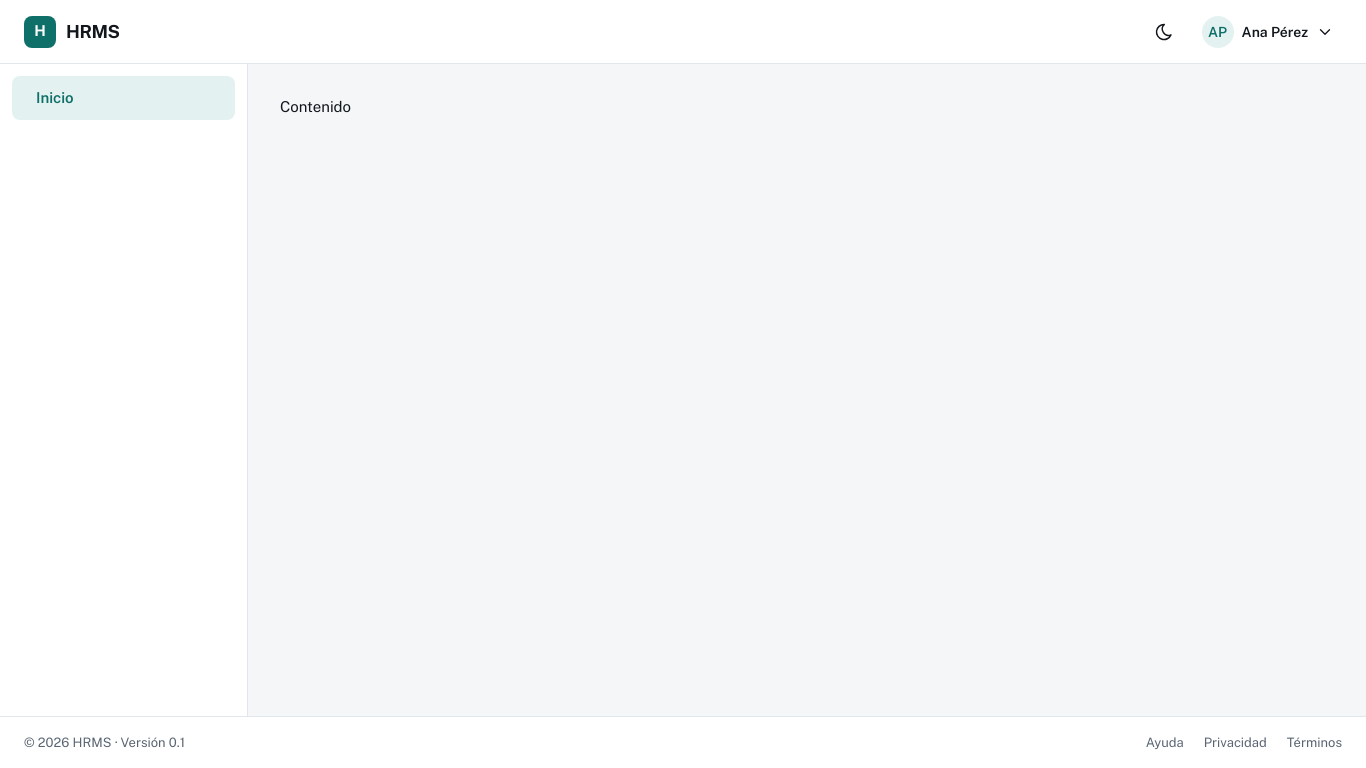
Test case: AppShell › cierra el menú con Escape
Click the button with aria-label "Menú de usuario" at (1268, 32), box left=1194, top=10, right=1342, bottom=54
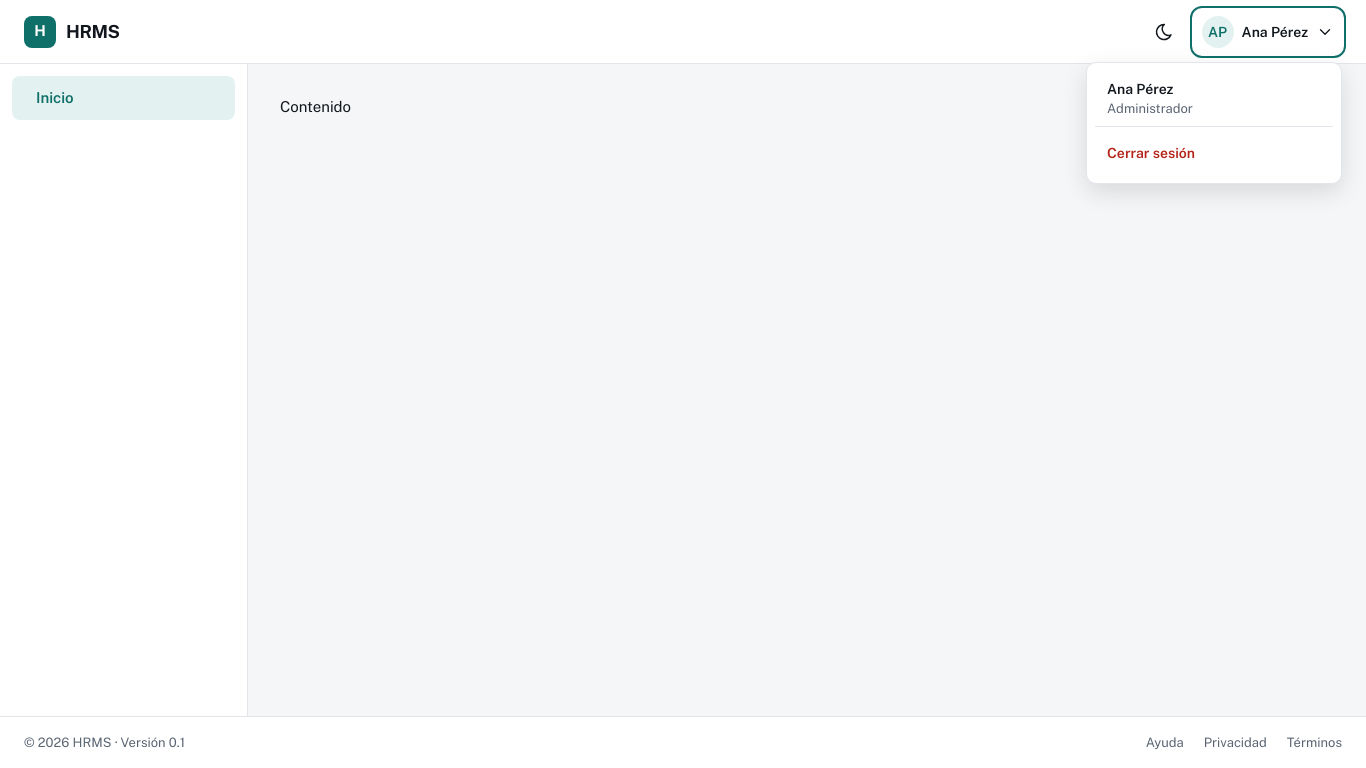
Press Escape
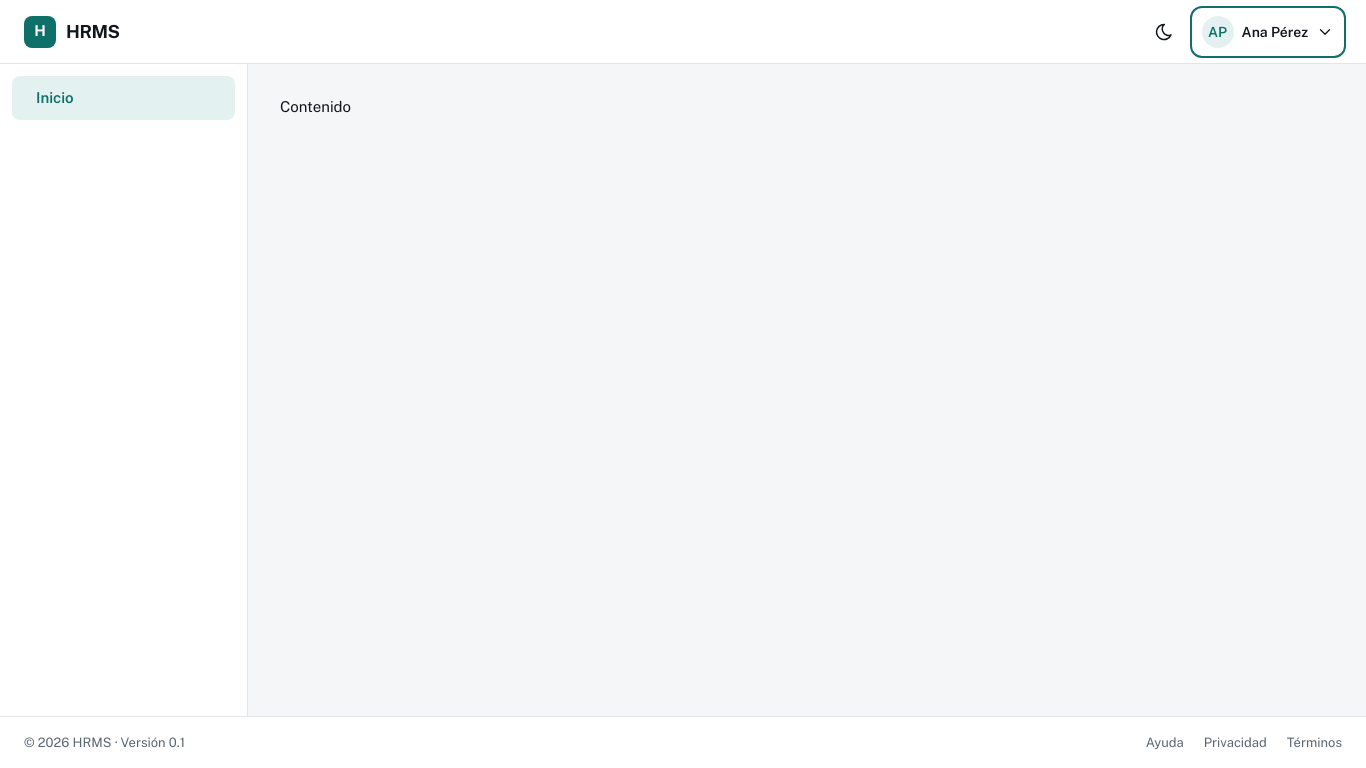
Check: the menu is gone
